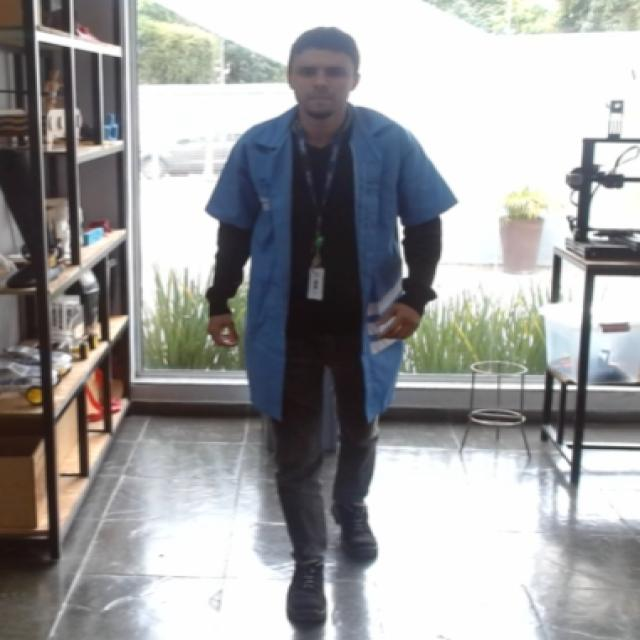BOTA: (328, 494, 393, 562), (286, 560, 333, 624)
JALECO: (197, 100, 463, 422)
SEM LUVA: (368, 298, 429, 346), (207, 308, 238, 350)
